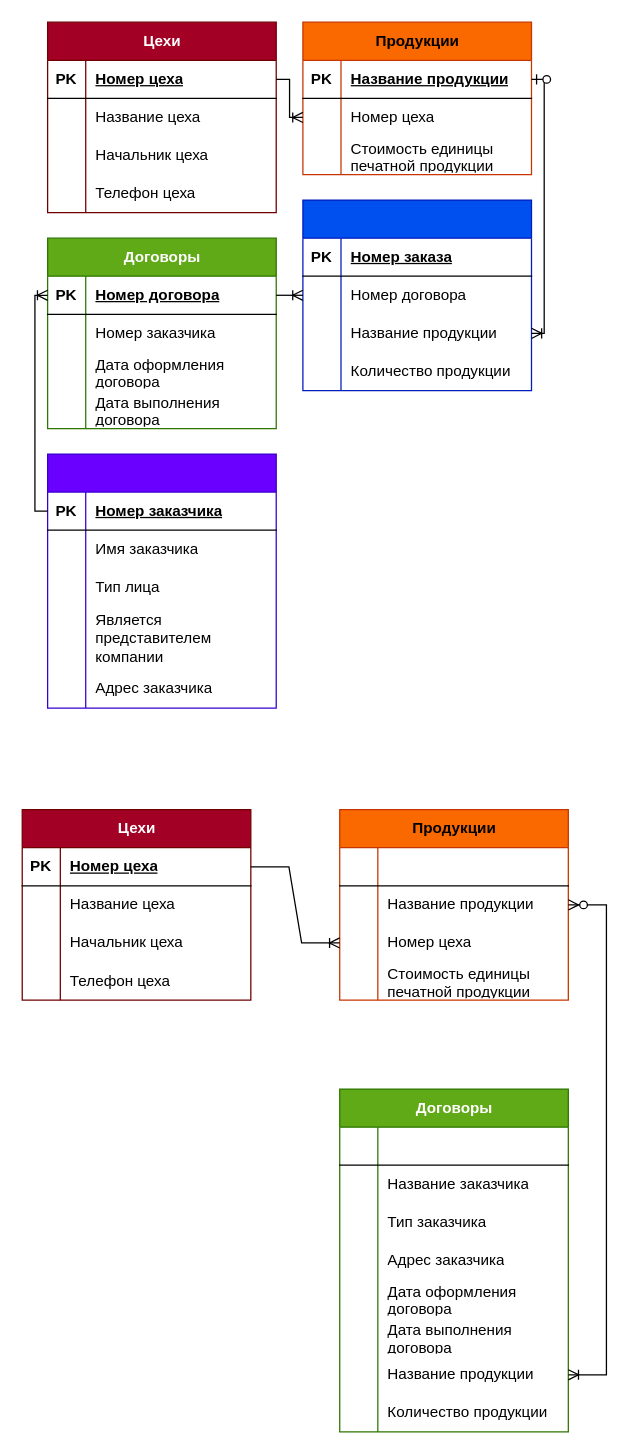
This 640x1454 diagram has some shape labels left out. Each missing label, with the box of its shape:
Заказчики: (46, 453, 276, 708)
Заказы: (302, 199, 531, 391)
